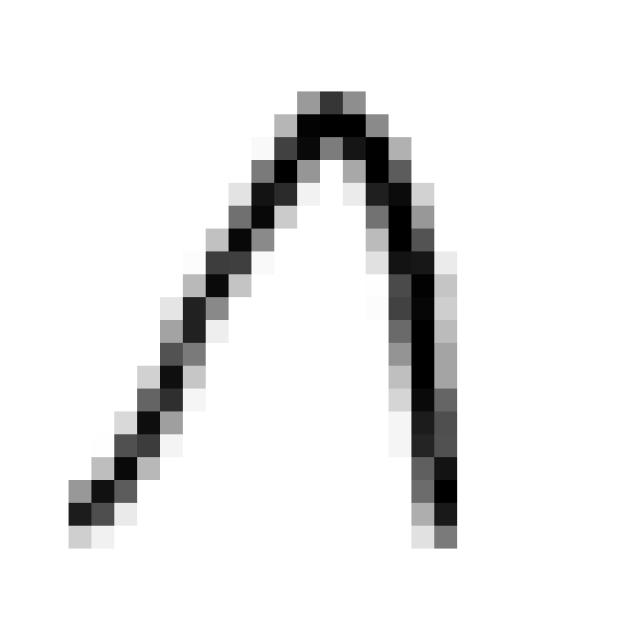8 -eight-: (41, 73, 479, 580)
